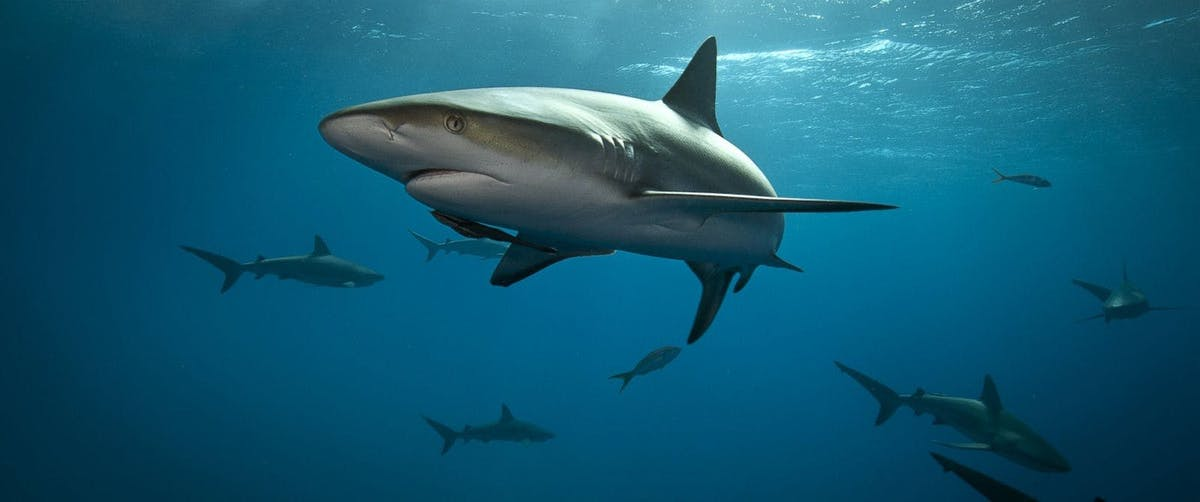shark: (305, 33, 884, 356), (838, 356, 1104, 488), (170, 225, 388, 310), (1060, 260, 1183, 353), (437, 394, 572, 460)
